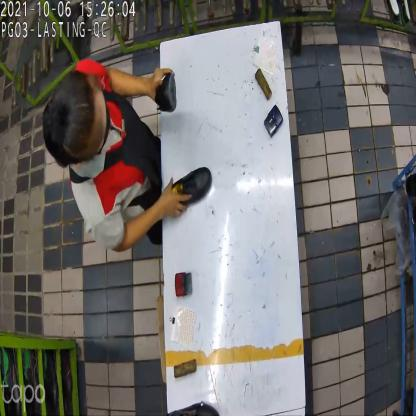shoes: (154, 68, 210, 204)
stamp: (267, 103, 285, 140), (177, 269, 194, 299)
